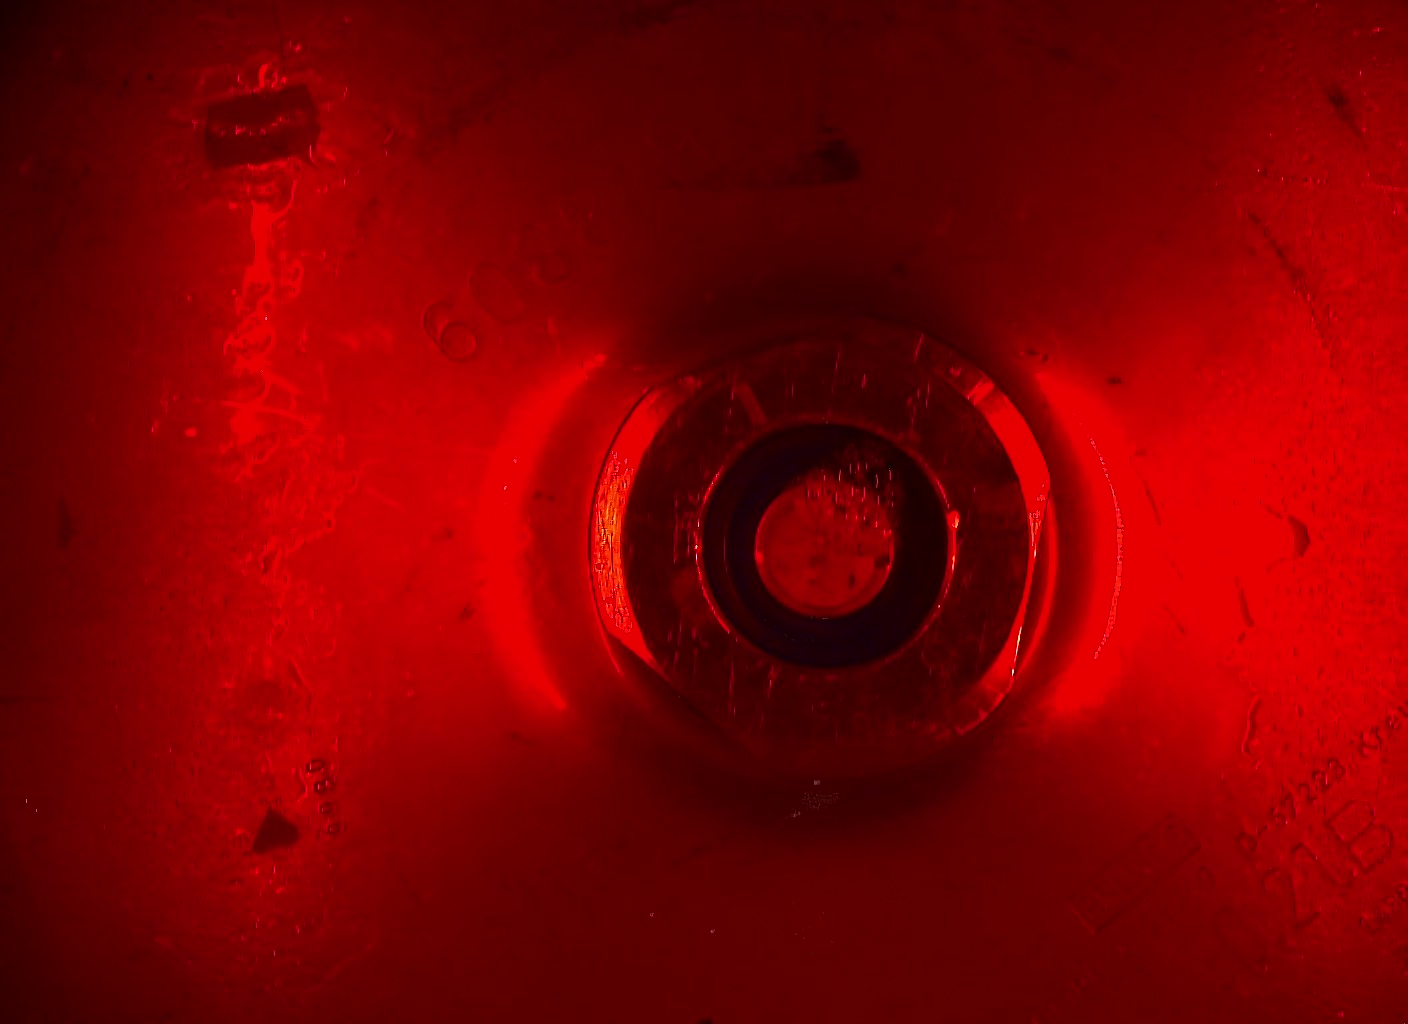pena: (794, 431, 912, 557)
